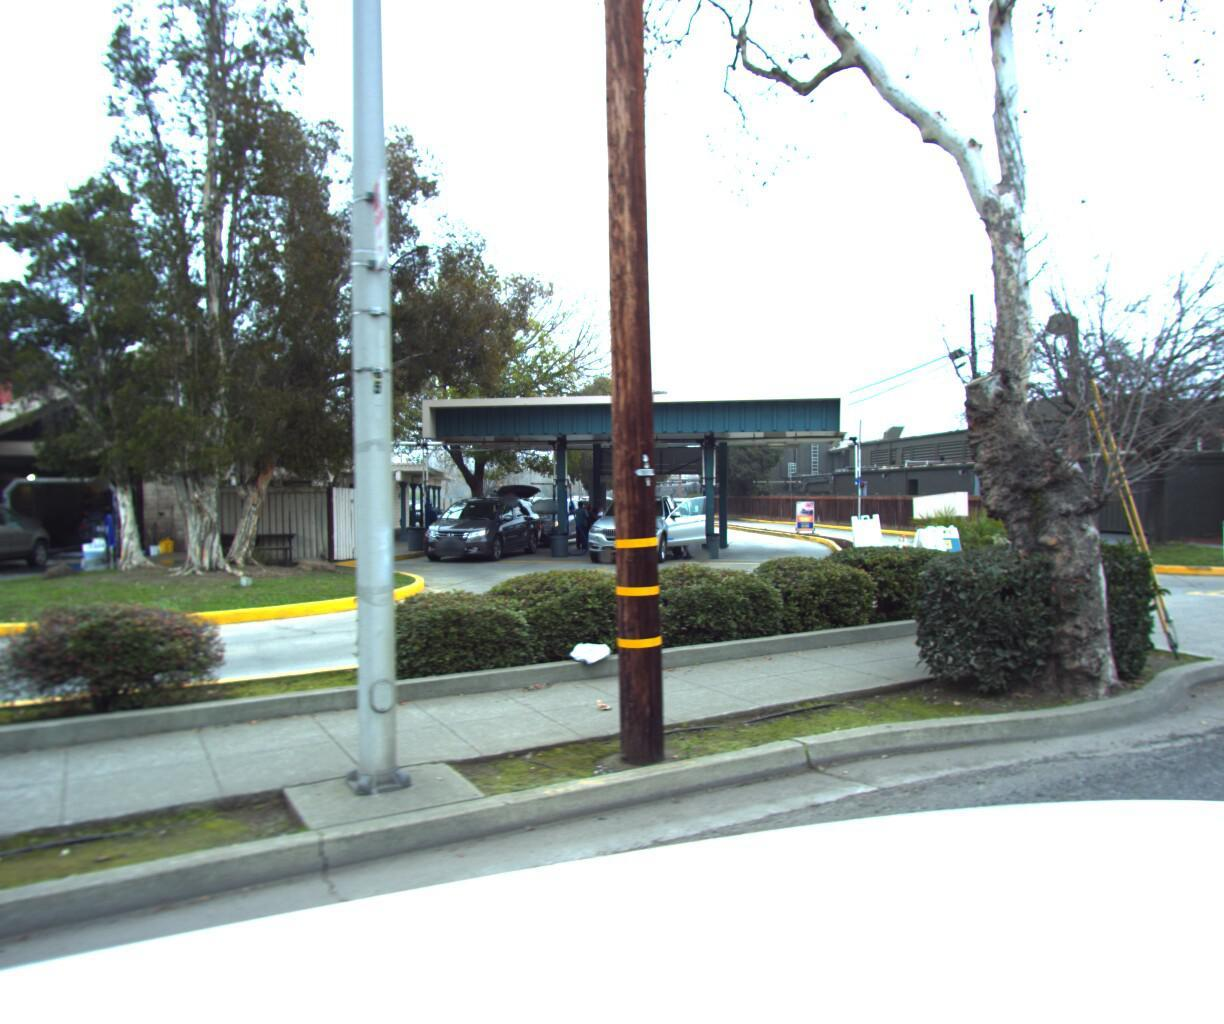car: (0, 491, 68, 588)
